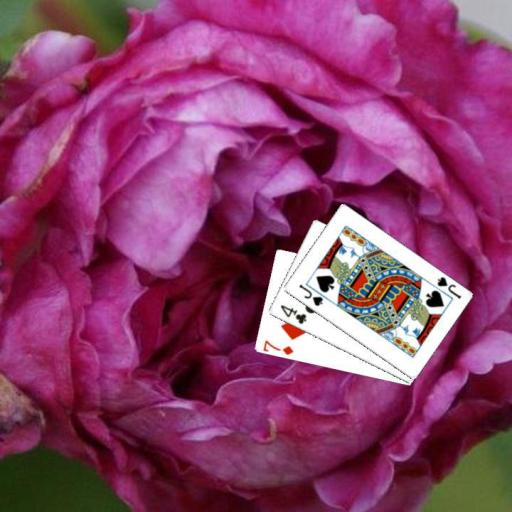4C: (277, 302, 308, 326)
7D: (261, 337, 295, 356)
JS: (295, 281, 324, 308), (433, 273, 462, 300)
